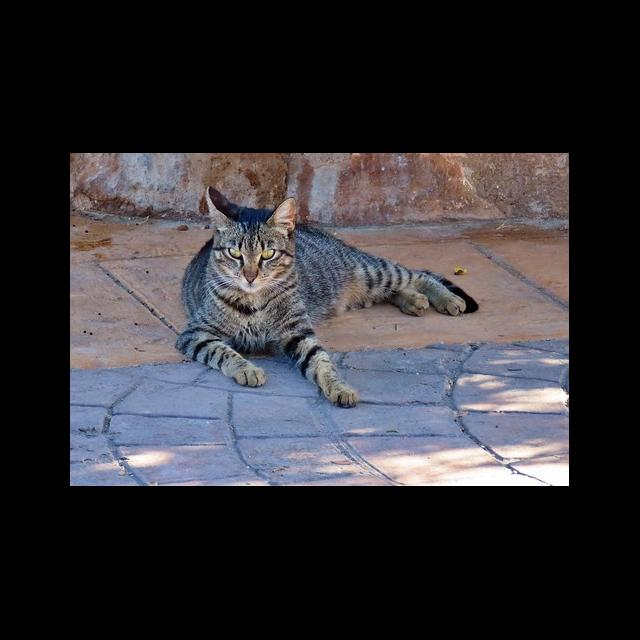animals: (177, 186, 480, 409)
